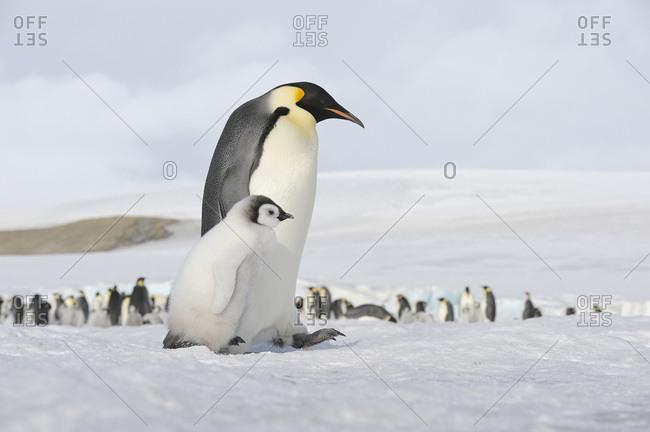emporer: (209, 78, 370, 360)
